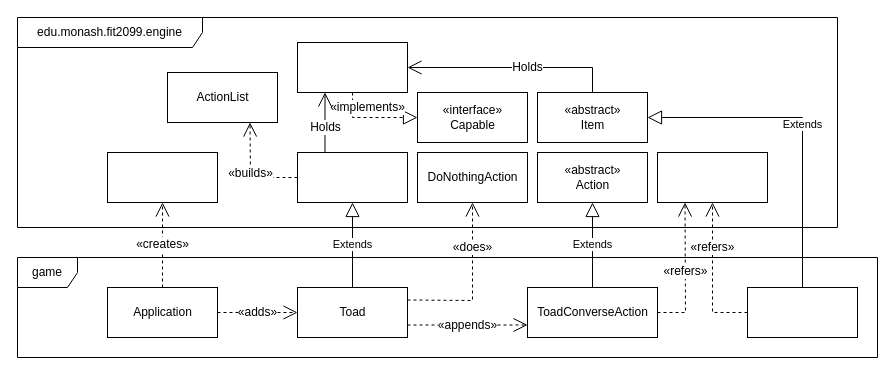
Some shapes in this 895 by 375 pixel diagram are drawn without their labels. The shapes that lost their labels are listed below. From the top down, each one's centre as x and y in pixels, then its label:
At pixel 352 67: "CapabilitySet".
At pixel 162 177: "GameMap".
At pixel 352 177: "«abstract» Actor".
At pixel 712 177: "«enum» Status".
At pixel 802 312: "Wrench".
